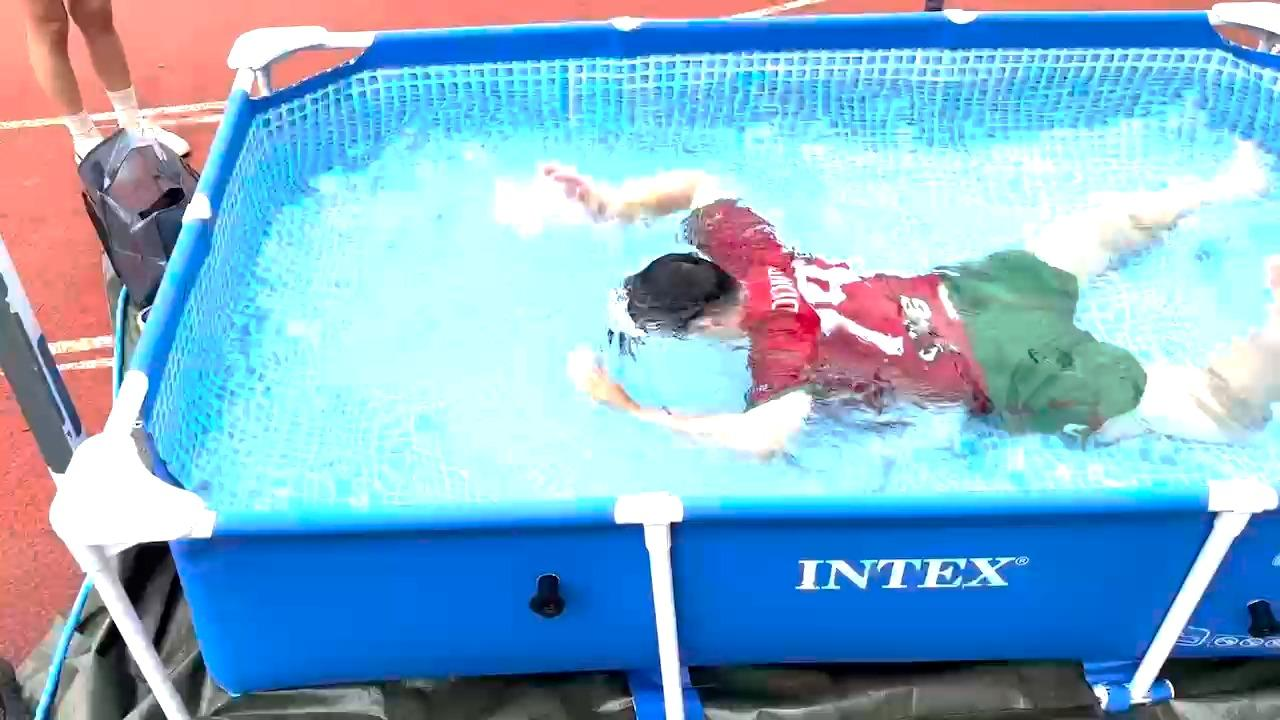Drowning: (489, 109, 1261, 485)
